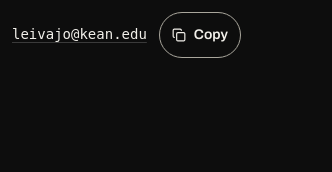
Test: CopyEmail › copies the address and says so
Click the button with aria-label "copy email address".
click(200, 35)  # box [159,12,241,58]
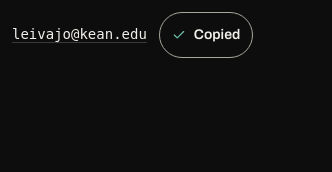
Expected: the text "Copied" is shown, [194,25,240,45]
